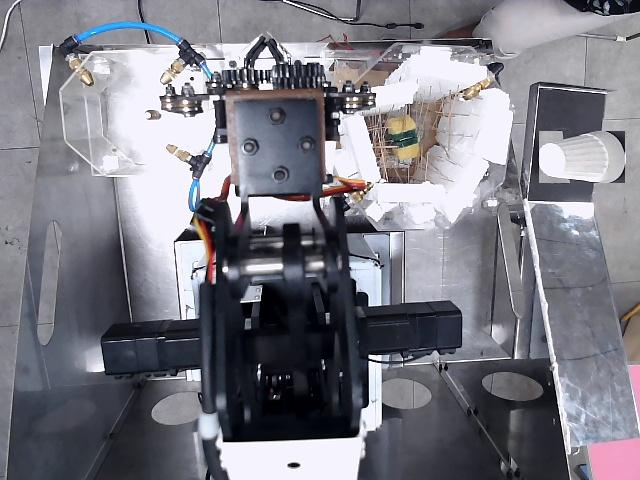cup: (539, 131, 625, 183)
